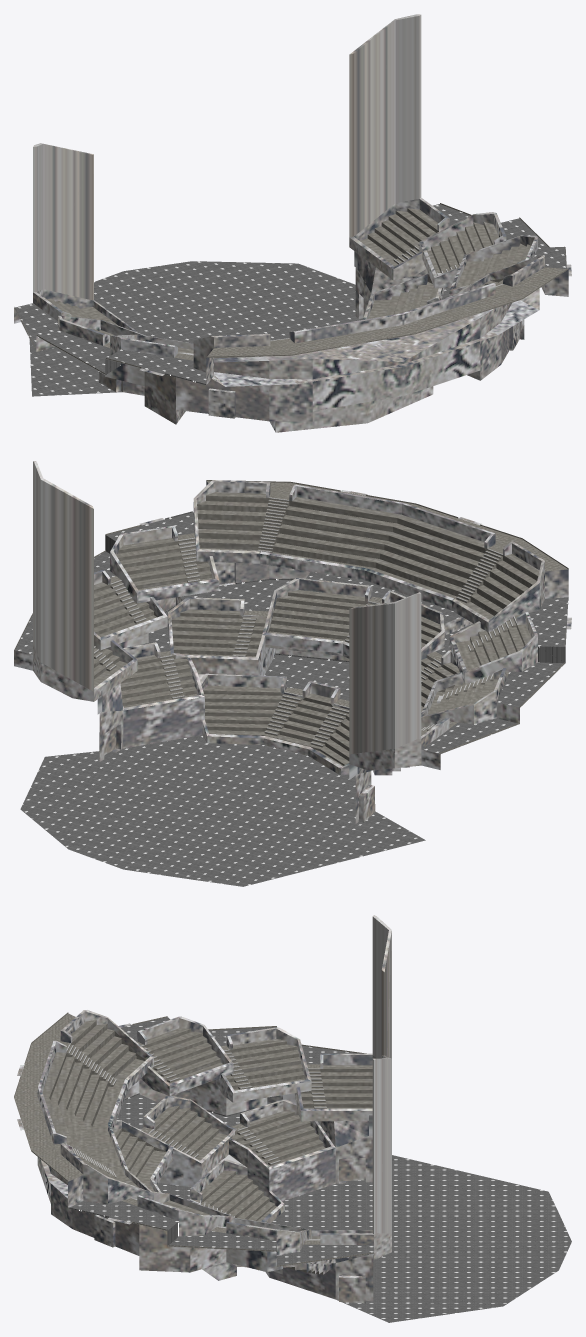
The picture shows the model from 3 angles, top to bottom: view 1: azimuth 30°, elevation 25°; view 2: azimuth 150°, elevation 25°; view 3: azimuth 270°, elevation 25°; orthographic projection. The views are drawn at different scales.
Visible parts, largest first — view 1: Object009_LOD0; view 2: Object009_LOD0; view 3: Object009_LOD0.
Part boxes in pixels (bbox=[...]): Object009_LOD0: bbox=[14, 14, 571, 432]; Object009_LOD0: bbox=[14, 461, 571, 886]; Object009_LOD0: bbox=[14, 915, 571, 1322].
Bounding box in the file's own units: 5100 × 5340 × 2874.
